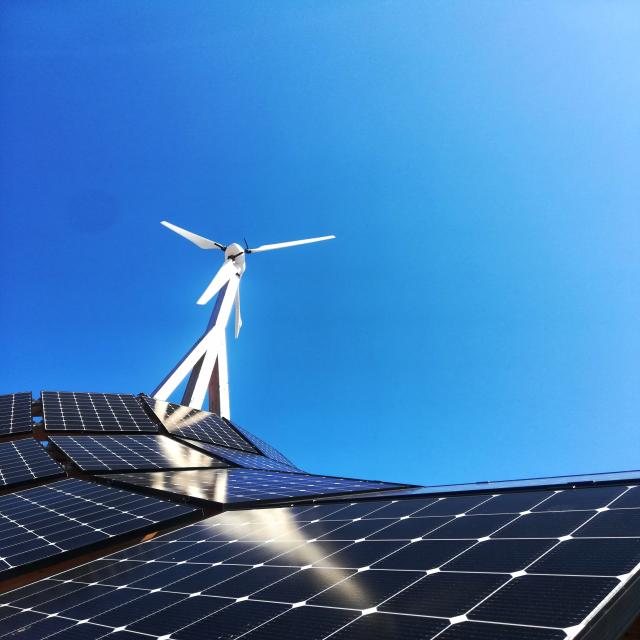clean-solar-panel: (0, 396, 640, 640)
